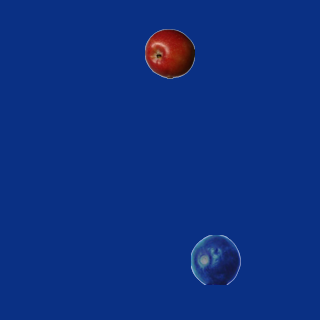Apple Braeburn: (144, 28, 194, 78)
Huckleberry: (190, 234, 240, 284)
